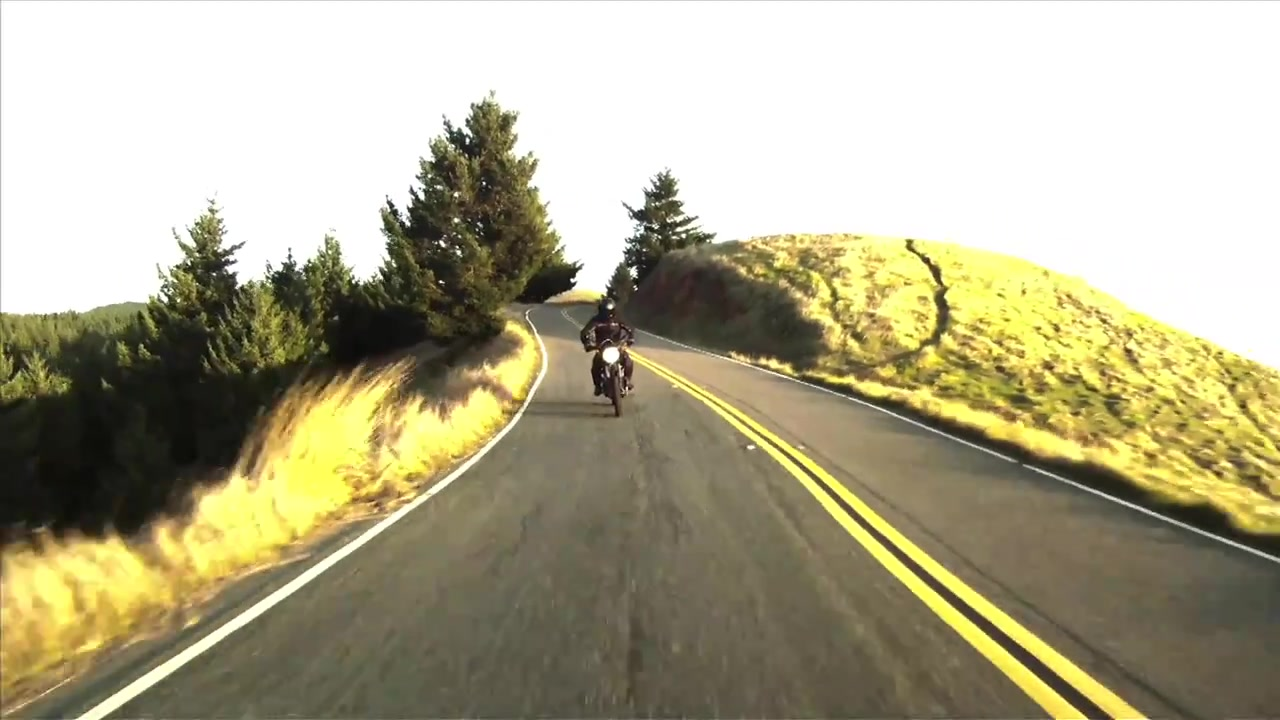motorbike: (584, 335, 640, 415)
